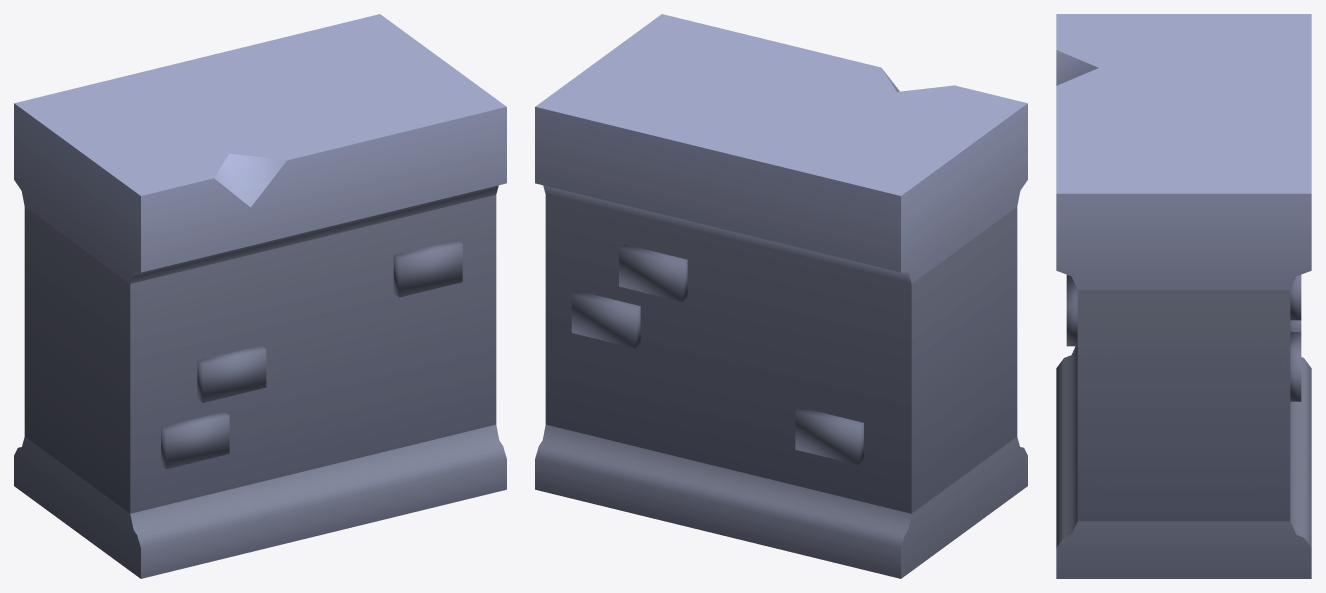
The model's file is wall.glb.
3 views of the same model, side by side, from view 1: azimuth 30°, elevation 25°; view 2: azimuth 150°, elevation 25°; view 3: azimuth 270°, elevation 25° (orthographic).
Visible parts, largest first — view 1: wall; view 2: wall; view 3: wall.
Part boxes in pixels (x1,y1,x2,y2): wall: (14,14,506,578); wall: (535,14,1027,578); wall: (1056,14,1311,578).
Bounding box in the file's own units: 1 × 1 × 0.6.
1 material, 1 textured.
